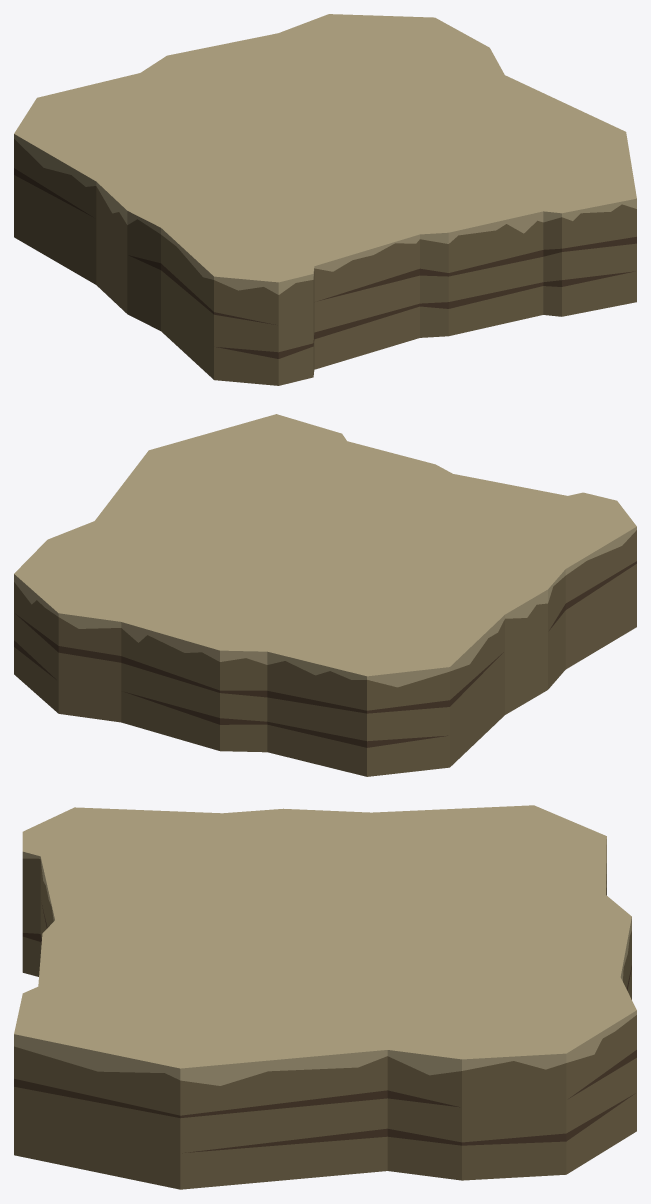
The model's file is Ground_11_B.FBX.
3 views of the same model, one above another, from view 1: azimuth 30°, elevation 25°; view 2: azimuth 150°, elevation 25°; view 3: azimuth 270°, elevation 25° (orthographic). The views are drawn at different scales.
Visible parts, largest first — view 1: Ground_11_B; view 2: Ground_11_B; view 3: Ground_11_B.
Boxes of the visible parts, bbox=[...] form: Ground_11_B: bbox=[14, 14, 636, 385]; Ground_11_B: bbox=[14, 414, 636, 776]; Ground_11_B: bbox=[14, 805, 636, 1189].
Bounding box in the file's own units: 13.98 × 3 × 13.98.
